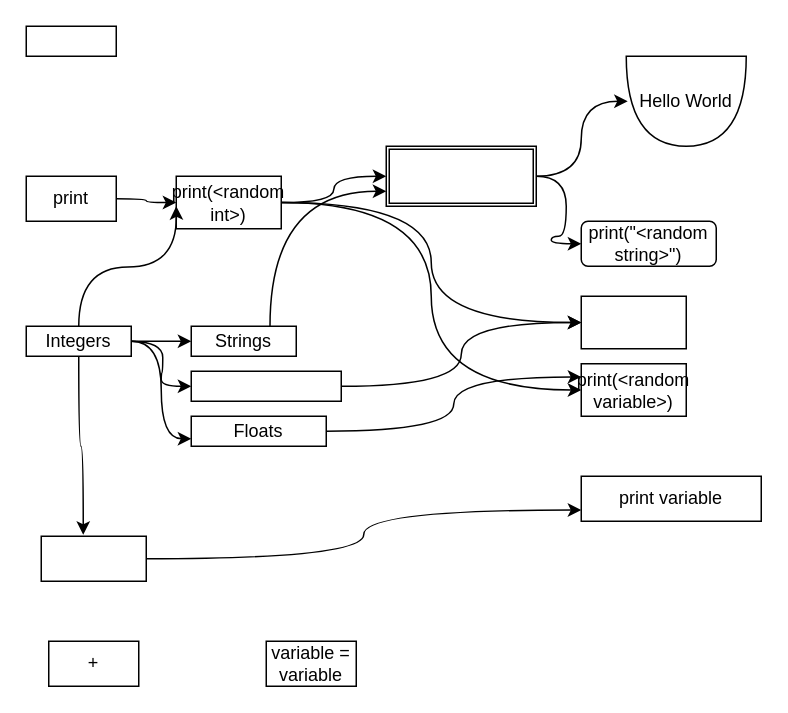
Some shapes in this 788 by 713 pixel diagram are drawn without their labels. Each missing label, with the centre of its shape:
boolean: pixel 265 385
Go: pixel 70 40
print("Hello World!"): pixel 460 175
print(<random boolean>): pixel 633 322
variables =: pixel 93 558
